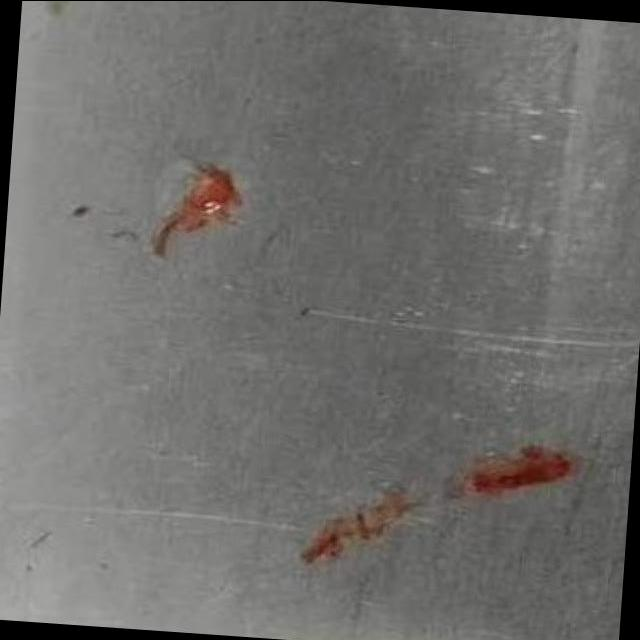General: (0, 0, 639, 639)
Infectious: (147, 157, 243, 259), (450, 441, 574, 497)
Sharps: (297, 440, 576, 565), (295, 298, 638, 354), (297, 479, 429, 564)
